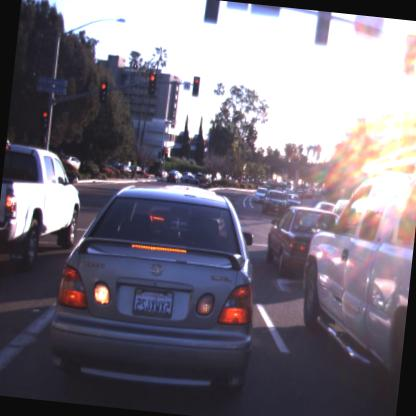trafficlight: (96, 79, 110, 105), (188, 74, 202, 98), (39, 108, 52, 132), (144, 72, 156, 96)
